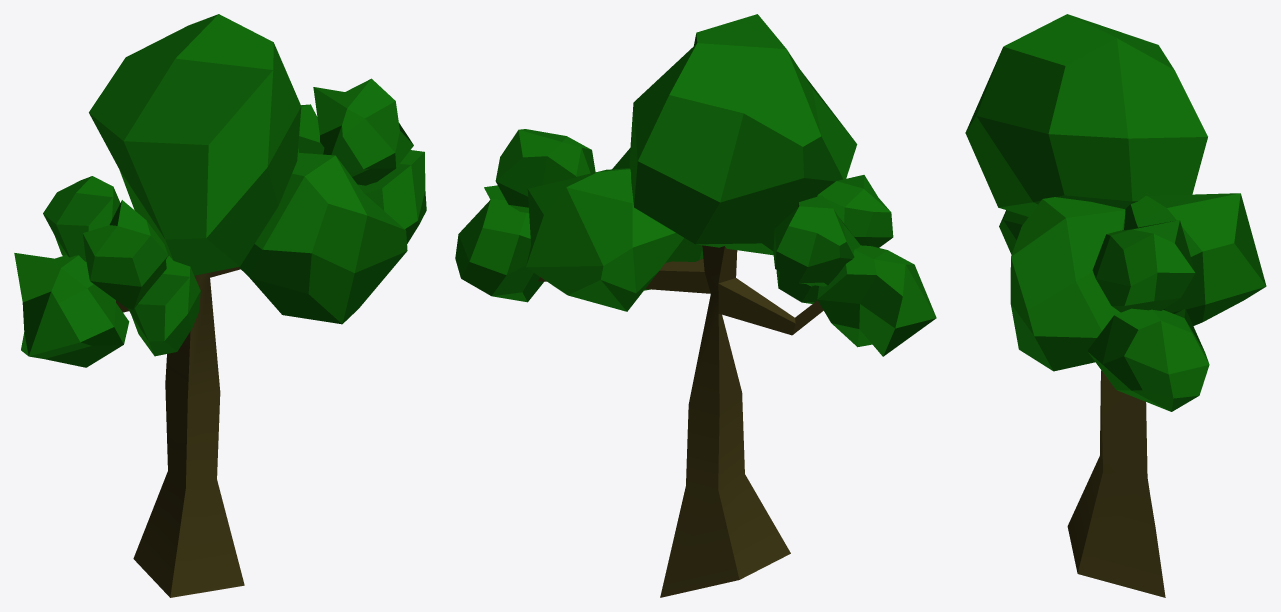
Rendered from A_BigTree2.fbx.
3 renders of one model, left to right at view 1: azimuth 30°, elevation 25°; view 2: azimuth 150°, elevation 25°; view 3: azimuth 270°, elevation 25°, orthographic. The views are drawn at different scales.
Visible parts, largest first — view 1: Box004, Box005, Box010, Box007, Box013, Box012, Box011, Box008, Box006, Box009; view 2: Box004, Box005, Box009, Box007, Box006, Box008, Box013, Box012, Box010, Box011; view 3: Box004, Box010, Box005, Box009, Box006, Box013, Box011.
Part boxes in pixels (x1,y1,x2,y2): Box004: [89, 14, 301, 275]; Box005: [116, 267, 244, 597]; Box010: [239, 152, 407, 324]; Box007: [14, 253, 129, 367]; Box013: [313, 78, 413, 185]; Box012: [83, 200, 168, 309]; Box011: [128, 255, 200, 356]; Box008: [43, 176, 120, 261]; Box006: [357, 150, 426, 243]; Box009: [298, 104, 324, 154]; Box004: [629, 14, 857, 255]; Box005: [538, 245, 823, 597]; Box009: [526, 168, 683, 311]; Box007: [817, 245, 936, 356]; Box006: [455, 185, 543, 302]; Box008: [773, 195, 859, 286]; Box013: [495, 129, 595, 213]; Box012: [816, 175, 893, 247]; Box010: [612, 148, 703, 290]; Box011: [776, 270, 818, 303]; Box004: [965, 14, 1207, 216]; Box010: [1010, 197, 1125, 371]; Box005: [1067, 370, 1165, 597]; Box009: [1124, 193, 1266, 325]; Box006: [1087, 308, 1209, 411]; Box013: [1092, 220, 1195, 312]; Box011: [999, 210, 1028, 254].
Size of the model in its own units: 85.1 by 104 by 51.31.
